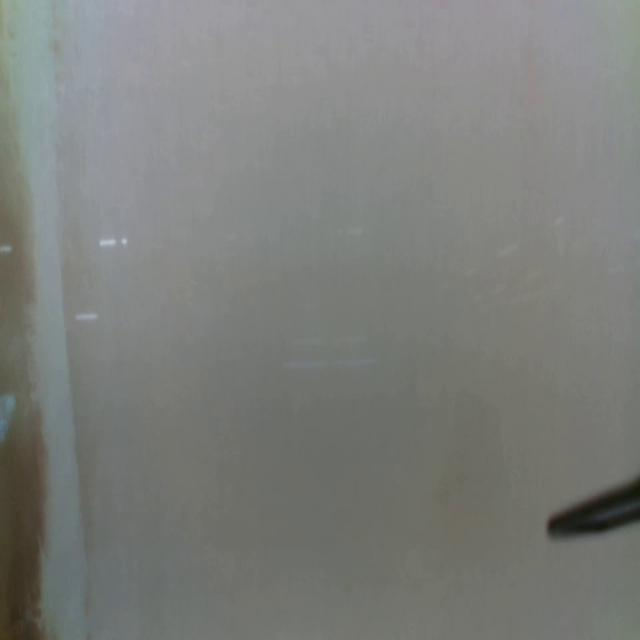color bleeding: (0, 0, 90, 639)
